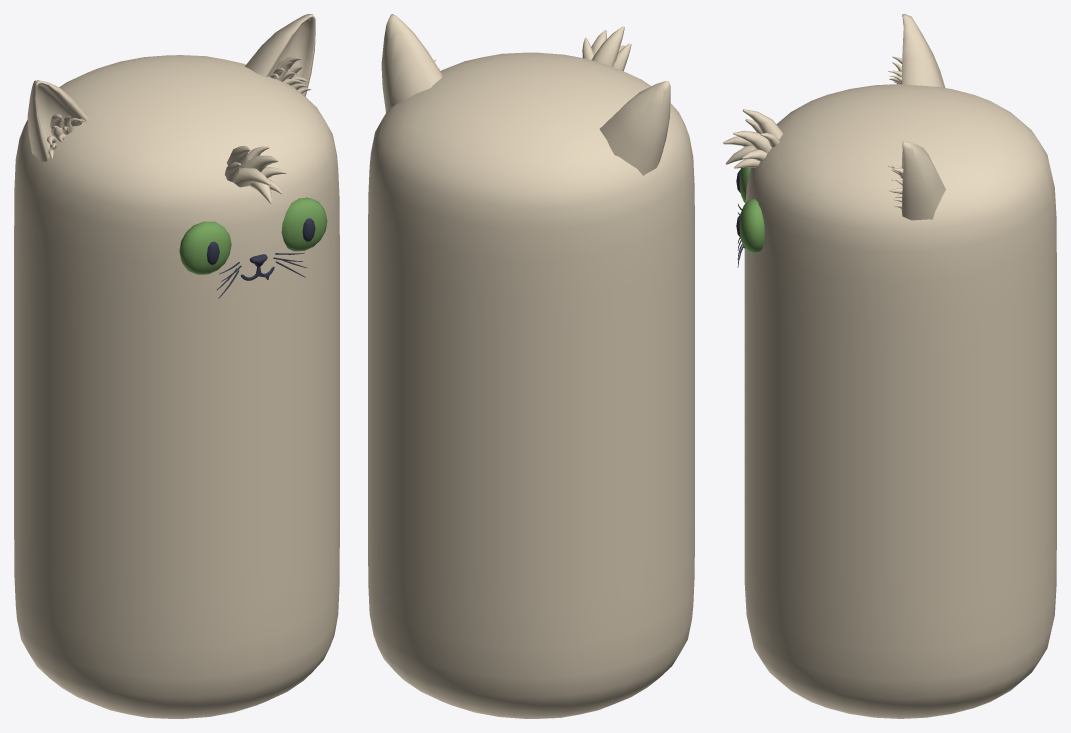
File: player_prototype.fbx
The picture shows the model from 3 angles, left to right: view 1: azimuth 30°, elevation 25°; view 2: azimuth 150°, elevation 25°; view 3: azimuth 270°, elevation 25°; orthographic projection. The views are drawn at different scales.
Visible parts, largest first — view 1: PrototypePlayer; view 2: PrototypePlayer; view 3: PrototypePlayer.
Boxes of the visible parts, x1,y1,x2,y2 form: PrototypePlayer: [14, 14, 339, 718]; PrototypePlayer: [368, 14, 694, 718]; PrototypePlayer: [723, 14, 1056, 718].
Bounding box in the file's own units: 0.8 × 1.74 × 0.8549.
